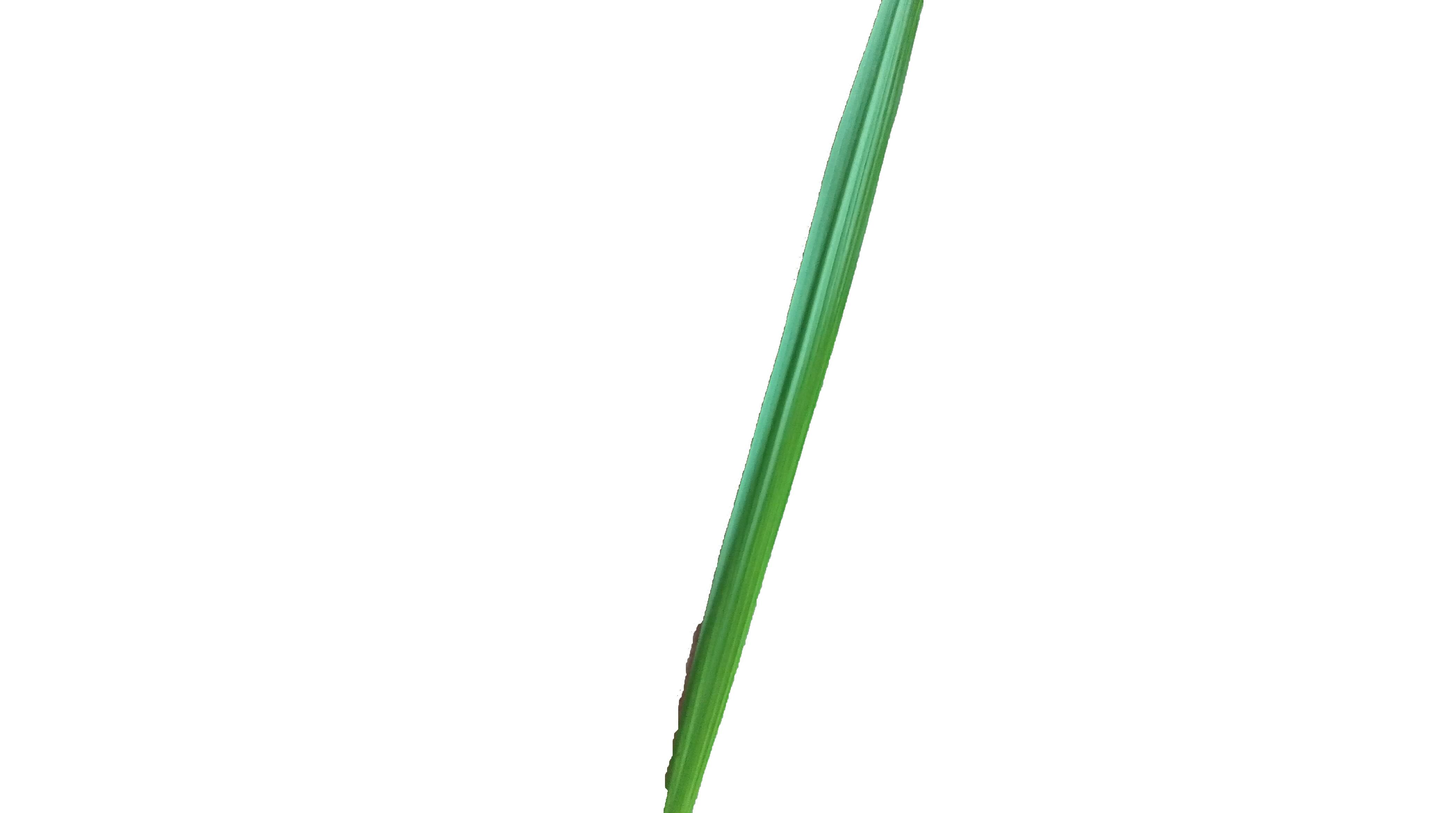Healthy: (657, 0, 928, 813)
